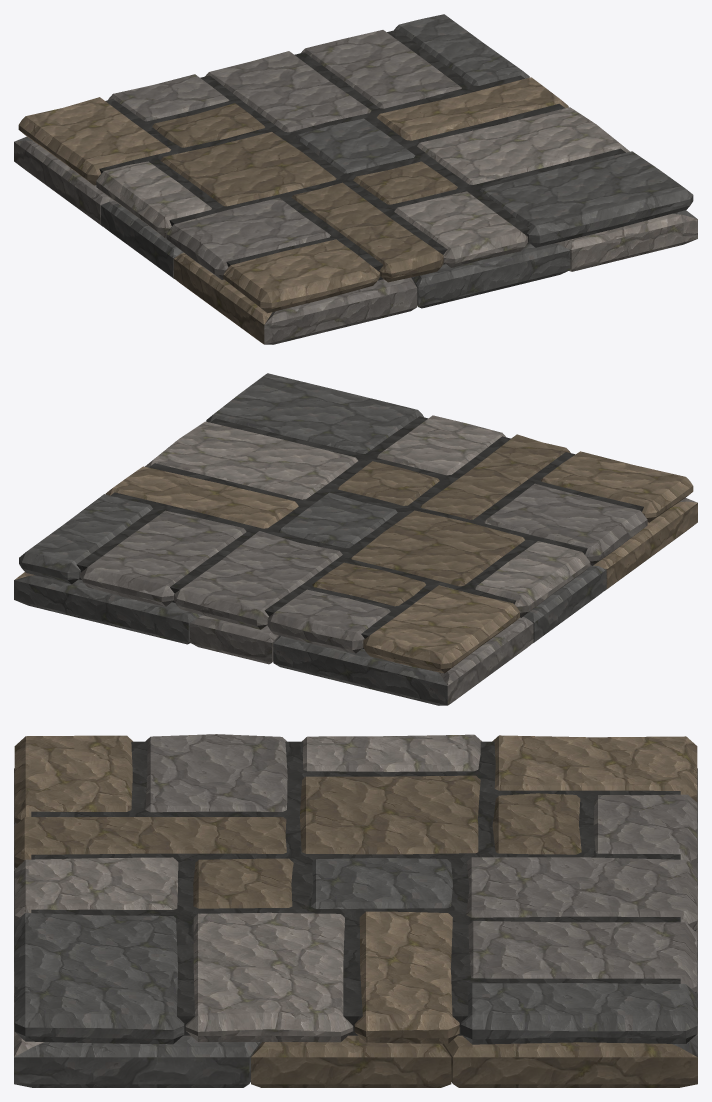
The model's file is floor__cut_stone.glb.
3 renders of one model, top to bottom at view 1: azimuth 30°, elevation 25°; view 2: azimuth 150°, elevation 25°; view 3: azimuth 270°, elevation 25°, orthographic. The views are drawn at different scales.
Visible parts, largest first — view 1: model; view 2: model; view 3: model.
Boxes of the visible parts, box(x1,y1,x2,y2) form: model: box(14, 14, 697, 344); model: box(14, 373, 697, 705); model: box(14, 734, 697, 1087).
Bounding box in the file's own units: 1.99 × 0.2348 × 1.99.
7 materials, 7 textured.
